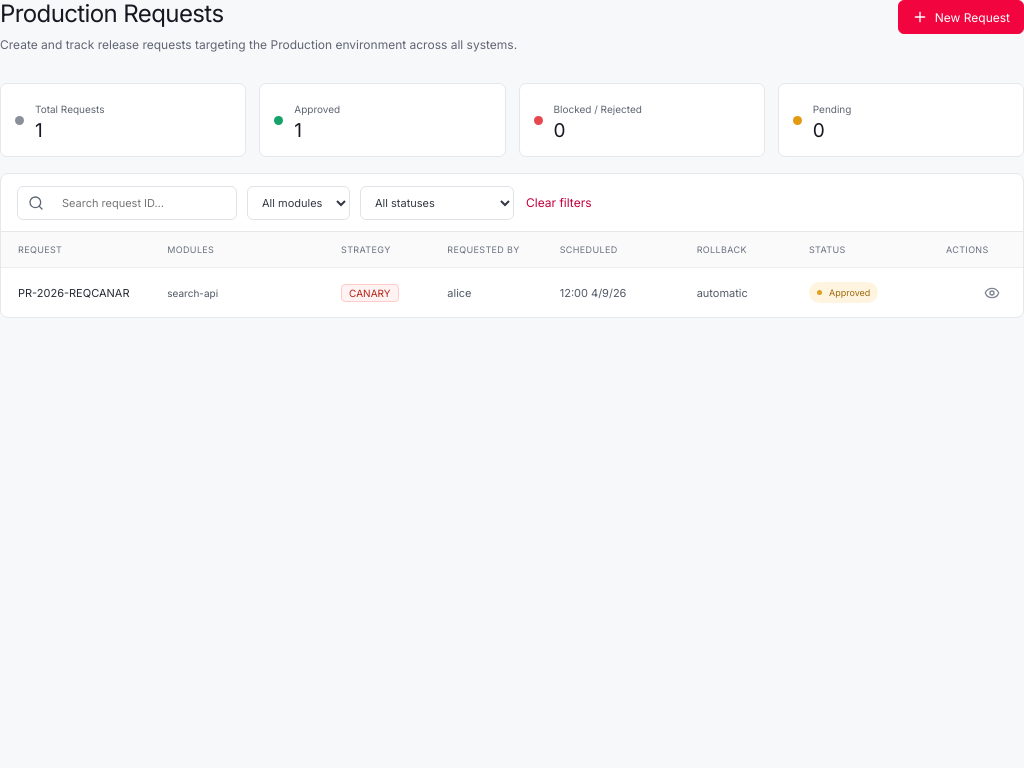
Scenario: ProductionRequestsPage (Phase 10) › renders production requests with strategy pill and details modal with DAG waves and canary controls
Expected: the text "canary" is shown, [341,284,398,302]
Expected: the text "search-api" is shown, [167,286,218,298]
// Click Eye button to open details modal
Step 1. Click the button named "view" → (992, 292), box [978,278,1006,306]
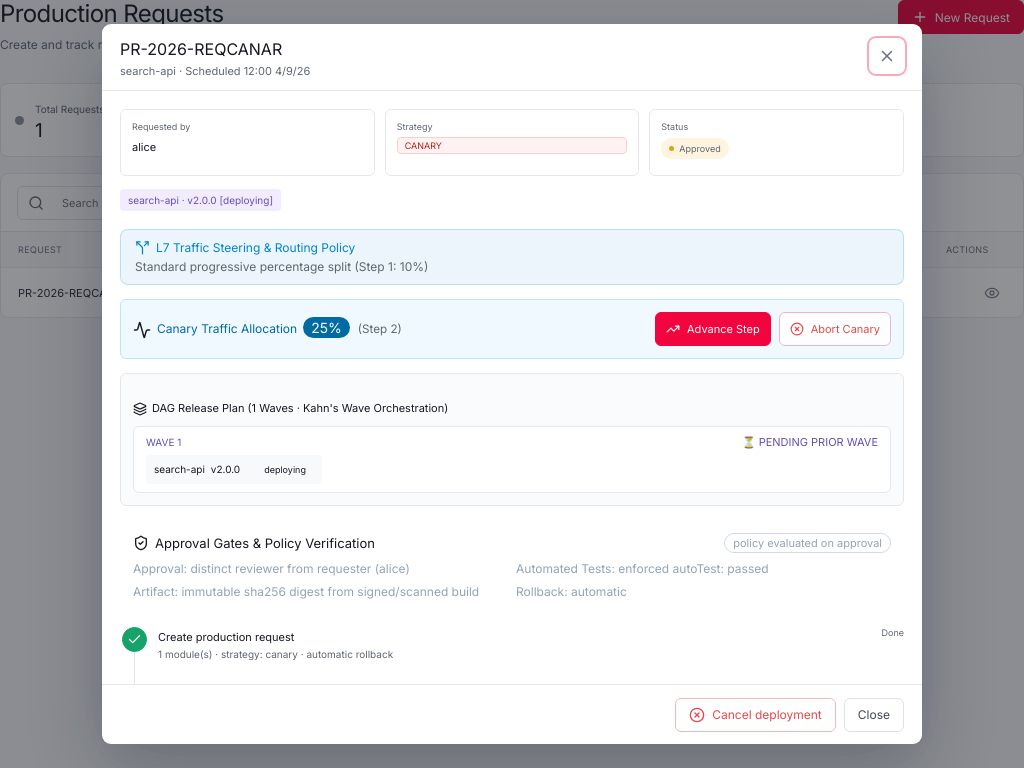
Expected: the heading "DAG Release Plan (1 Waves · Kahn's Wave Orchestration)" is shown, [133,401,448,416]
Expected: the text "Canary Traffic Allocation" is shown, [157,321,297,336]
Expected: the button "Advance Step" is shown, [655,312,771,346]
